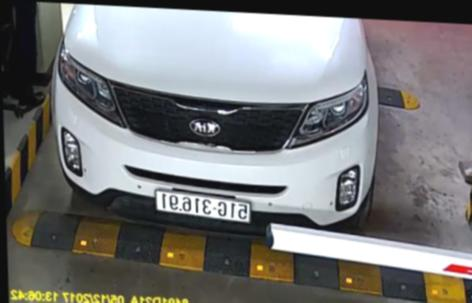License_Plate: (148, 187, 257, 227)
